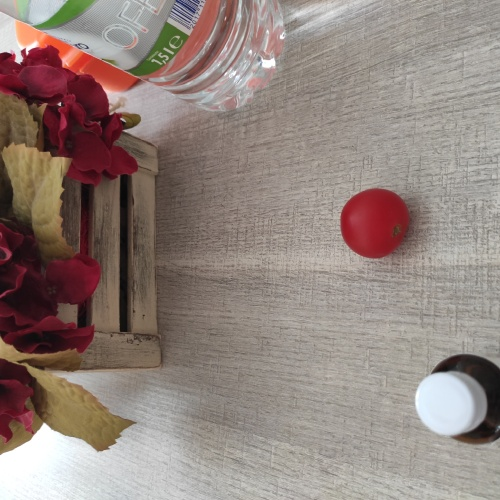pomodoro: (339, 187, 409, 260)
